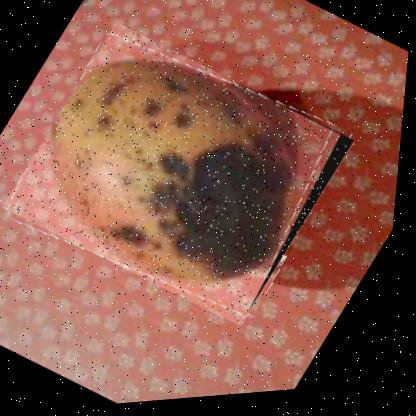mango_rotten: (0, 7, 370, 348)
